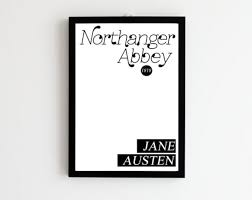book: (68, 14, 184, 178)
